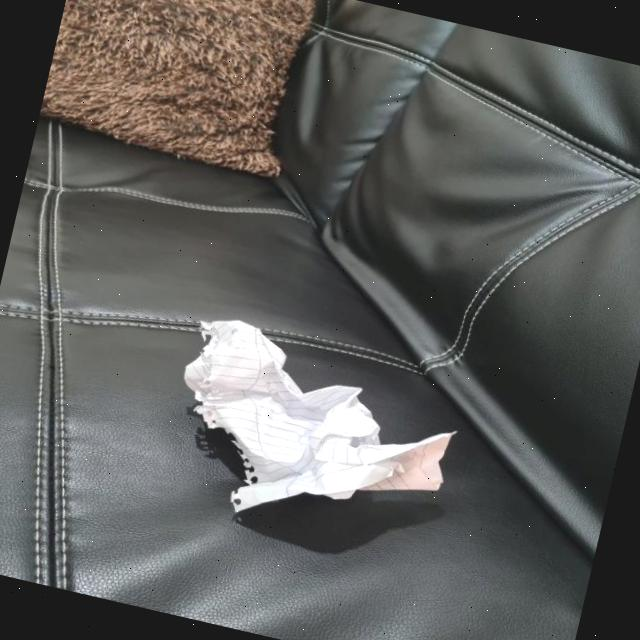trash: (148, 310, 462, 551)
